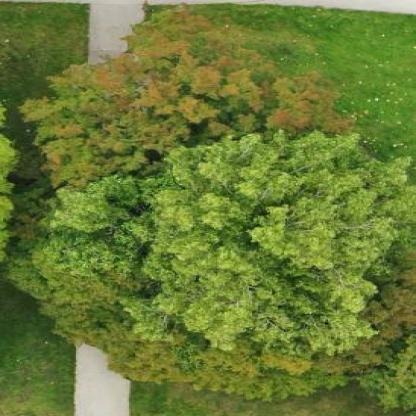Deciduous Tree: (49, 144, 414, 416), (26, 17, 373, 162)
